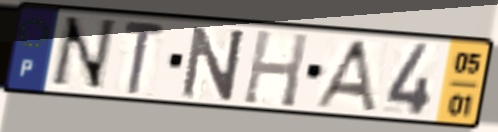4: (384, 41, 435, 118)
A: (309, 37, 380, 114)
H: (239, 27, 312, 110)
N: (45, 14, 120, 93), (178, 24, 249, 102)
T: (120, 17, 168, 97)
